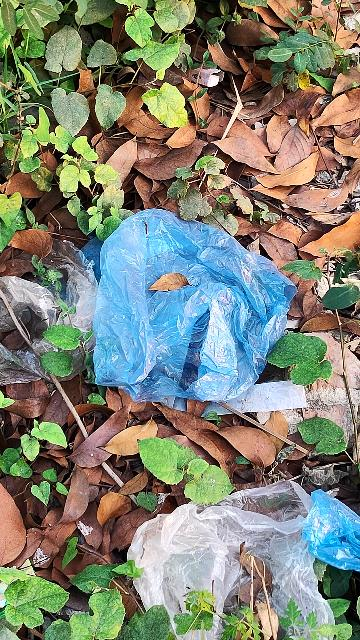polythene: (81, 214, 291, 385)
